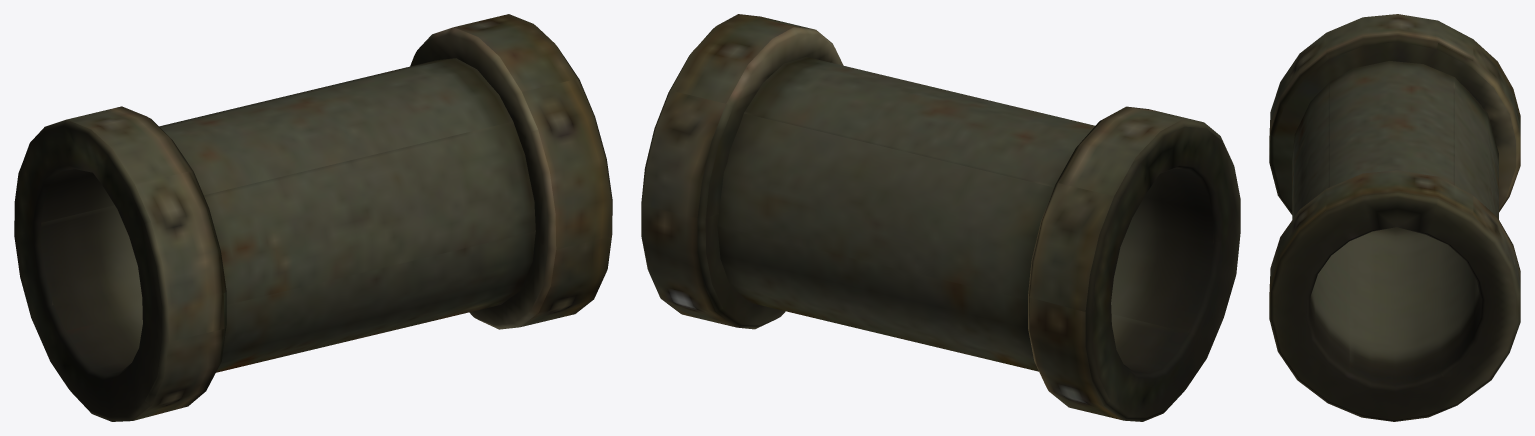
Rendered from pipe_straight_duct_small.fbx.
The picture shows the model from 3 angles, left to right: view 1: azimuth 30°, elevation 25°; view 2: azimuth 150°, elevation 25°; view 3: azimuth 270°, elevation 25°; orthographic projection. The views are drawn at different scales.
Parts seen in each view (by area): view 1: pipe_straight_duct_small; view 2: pipe_straight_duct_small; view 3: pipe_straight_duct_small.
Part boxes in pixels (bbox=[...]): pipe_straight_duct_small: bbox=[14, 14, 612, 421]; pipe_straight_duct_small: bbox=[641, 14, 1240, 421]; pipe_straight_duct_small: bbox=[1269, 14, 1520, 421].
Bounding box in the file's own units: 73.92 × 44.38 × 43.59.
